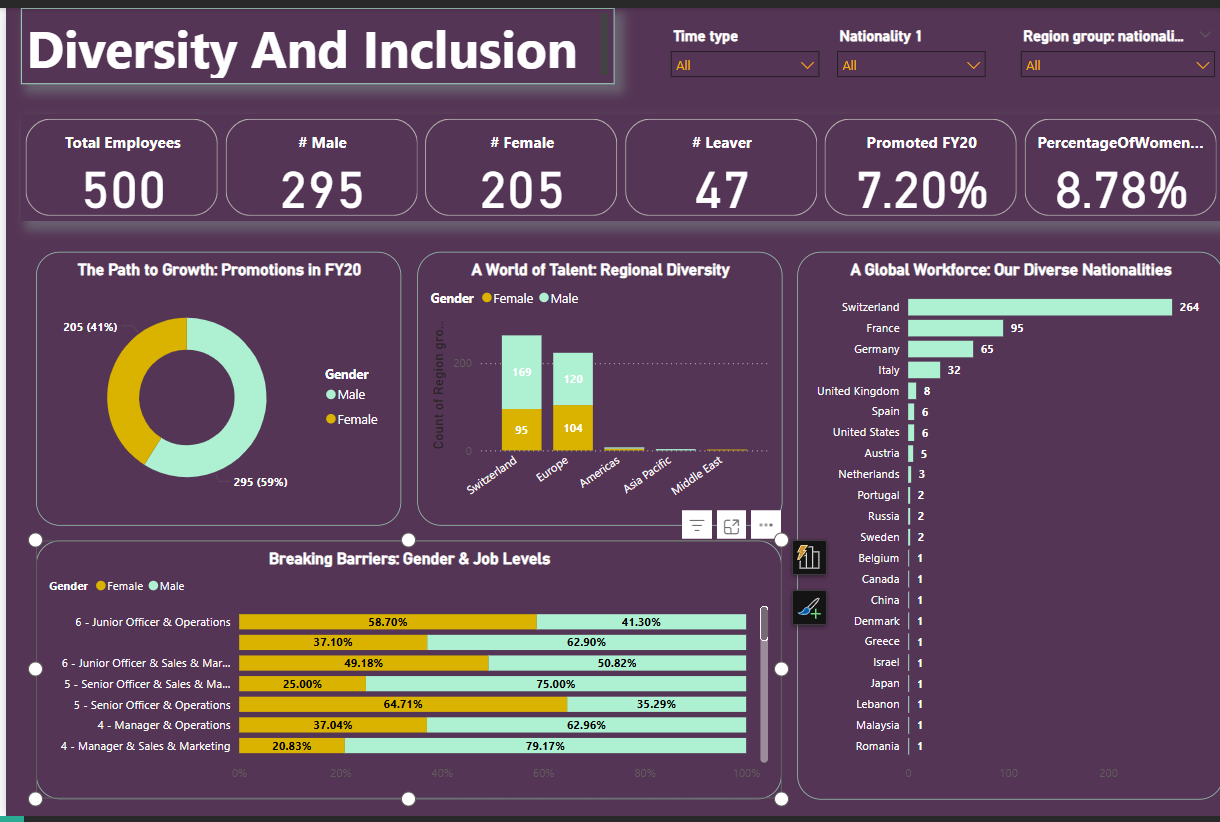

What the dashboard file says about the page in this screenshot:
{"tool":"powerbi","page":{"name":"Page 1","canvas":[1280,850],"ordinal":0},"visuals":[{"type":"textbox","box":[16,0,624,80],"z":0},{"type":"cardVisual","fields":{"Data":["measure table.Total Employees","measure table.# Male","measure table.# Female","measure table.# Leaver","measure table.Promoted FY20","measure table.PercentageOfWomenPromoted"]},"box":[16,112,1264,112],"z":1000},{"type":"slicer","fields":{"Values":["HR.Time type"]},"box":[688,16,176,64],"z":2000},{"type":"slicer","fields":{"Values":["HR.Nationality 1"]},"box":[864,16,176,64],"z":3000},{"type":"slicer","fields":{"Values":["HR.Region group: nationality 1"]},"box":[1056,16,224,64],"z":4000},{"type":"donutChart","fields":{"Y":["CountNonNull(HR.Promotion in FY20?)"],"Category":["HR.Gender"]},"box":[32,256,384,288],"z":5000},{"type":"clusteredBarChart","fields":{"Y":["CountNonNull(HR.Employee ID)"],"Category":["HR.Nationality 1"]},"box":[832,256,448,576],"z":6000},{"type":"hundredPercentStackedBarChart","fields":{"Category":["HR.Department & JL group for PRA"],"Series":["HR.Gender"],"Y":["CountNonNull(HR.Department & JL group for PRA)"]},"box":[32,560,784,272],"z":7000},{"type":"columnChart","fields":{"Series":["HR.Gender"],"Y":["CountNonNull(HR.Region group: nationality 1)"],"Category":["HR.Region group: nationality 1"]},"box":[432,256,384,288],"z":8000}]}

Visuals, with their boxes in screenshot pixels (x1, y1, x2, y2), scaled from the page's 1280x850 canvas onto the 1220x822 screenshot:
textbox: bbox=[15, 0, 610, 77]
cardVisual - measure table.Total Employees x measure table.# Male: bbox=[15, 108, 1219, 217]
slicer - HR.Time type: bbox=[656, 15, 824, 77]
slicer - HR.Nationality 1: bbox=[824, 15, 991, 77]
slicer - HR.Region group: nationality 1: bbox=[1006, 15, 1219, 77]
donutChart - CountNonNull(HR.Promotion in FY20?) x HR.Gender: bbox=[30, 248, 396, 526]
clusteredBarChart - CountNonNull(HR.Employee ID) x HR.Nationality 1: bbox=[793, 248, 1219, 805]
hundredPercentStackedBarChart - HR.Department & JL group for PRA x HR.Gender: bbox=[30, 542, 778, 805]
columnChart - HR.Gender x CountNonNull(HR.Region group: nationality 1): bbox=[412, 248, 778, 526]
